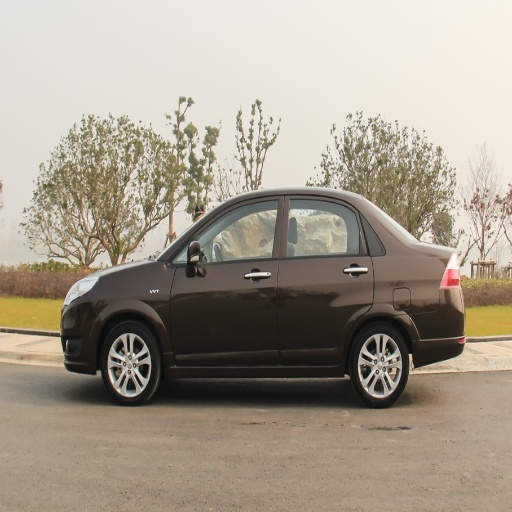back_left_door: (280, 193, 373, 363)
front_left_door: (170, 194, 283, 362)
